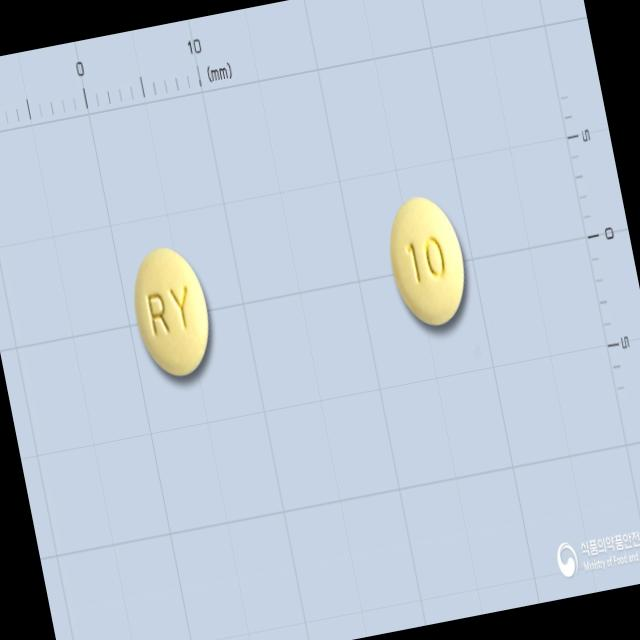Crabacter Tab: (124, 242, 220, 384), (381, 188, 475, 332)
